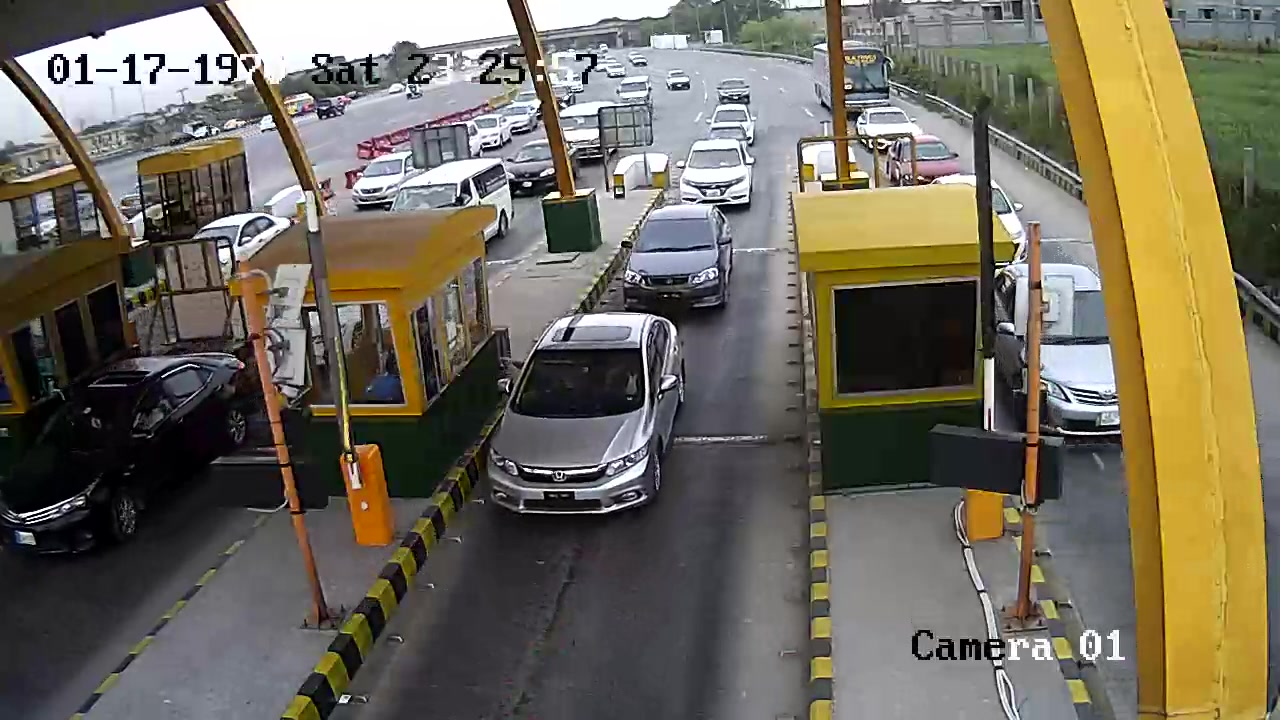F1: (477, 309, 696, 539), (615, 201, 738, 312)
